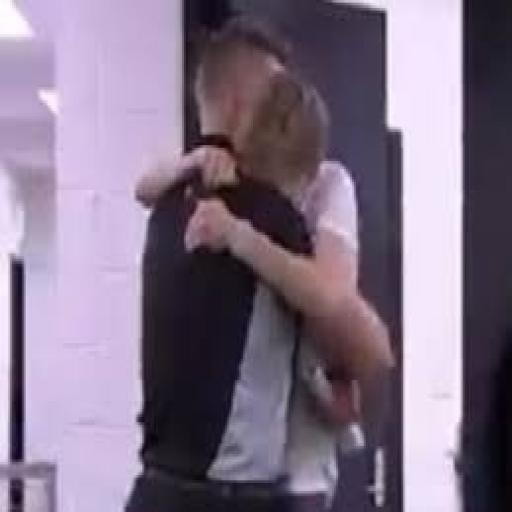hugging: (120, 10, 392, 510)
